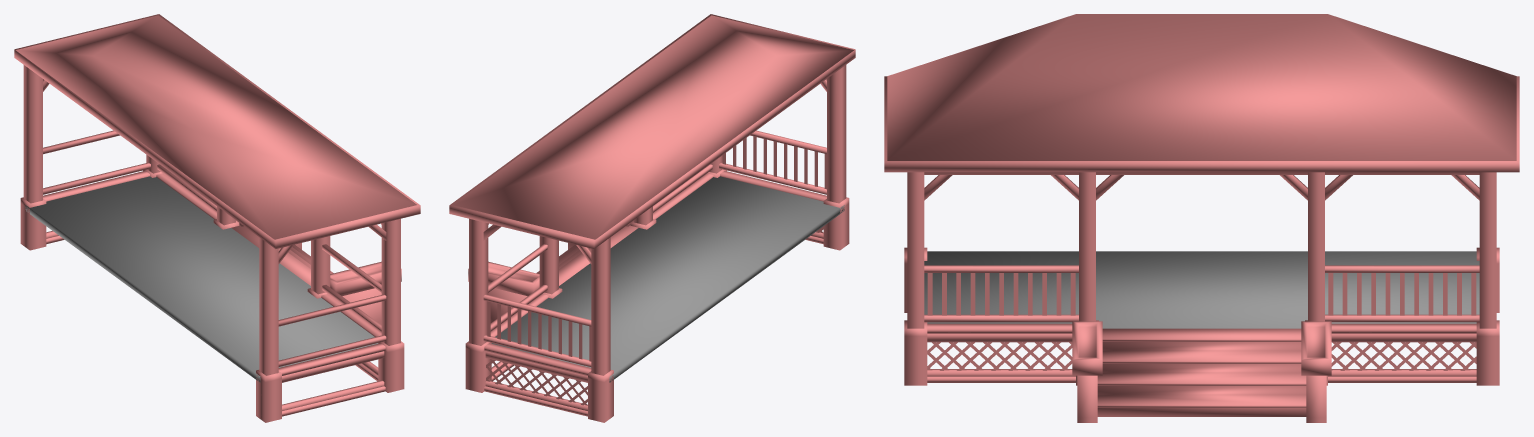
Rendered from SM_veranda_01.gltf.
3 views of the same model, side by side, from view 1: azimuth 30°, elevation 25°; view 2: azimuth 150°, elevation 25°; view 3: azimuth 270°, elevation 25° (orthographic). The views are drawn at different scales.
Parts seen in each view (by area): view 1: SM_veranda_01; view 2: SM_veranda_01; view 3: SM_veranda_01.
Part boxes in pixels (bbox=[...]): SM_veranda_01: bbox=[14, 14, 420, 422]; SM_veranda_01: bbox=[449, 14, 855, 422]; SM_veranda_01: bbox=[884, 14, 1519, 422].
Bounding box in the file's own units: 5.03 × 5.6 × 11.1.
